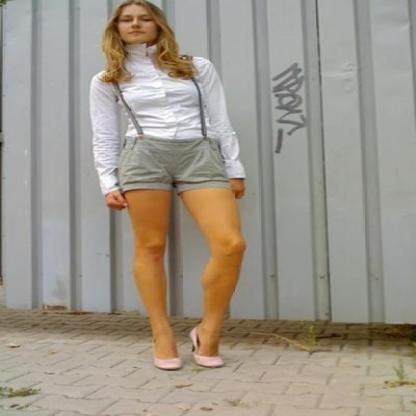shirt: (88, 43, 244, 190)
shoe: (154, 354, 221, 368)
shorts: (112, 124, 236, 198)
